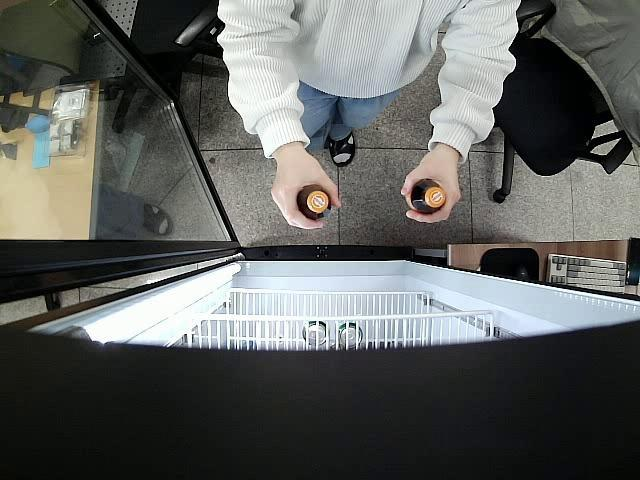17_vita500: (399, 177, 446, 214), (296, 185, 332, 222)
